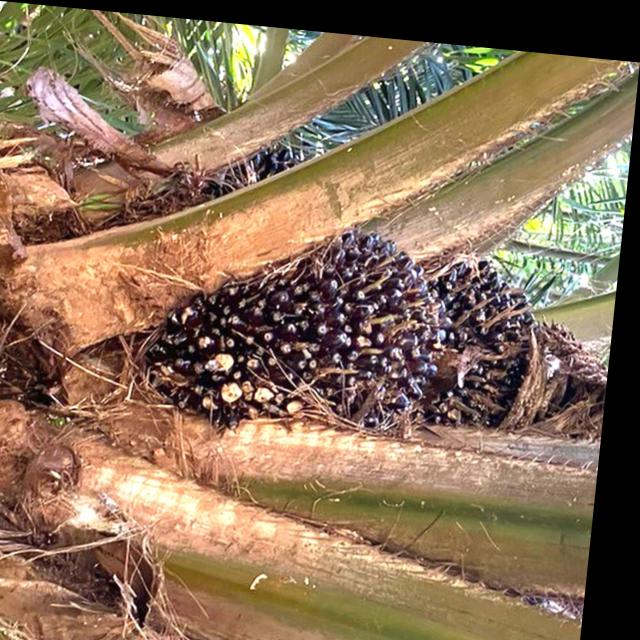almost: (134, 203, 463, 448)
